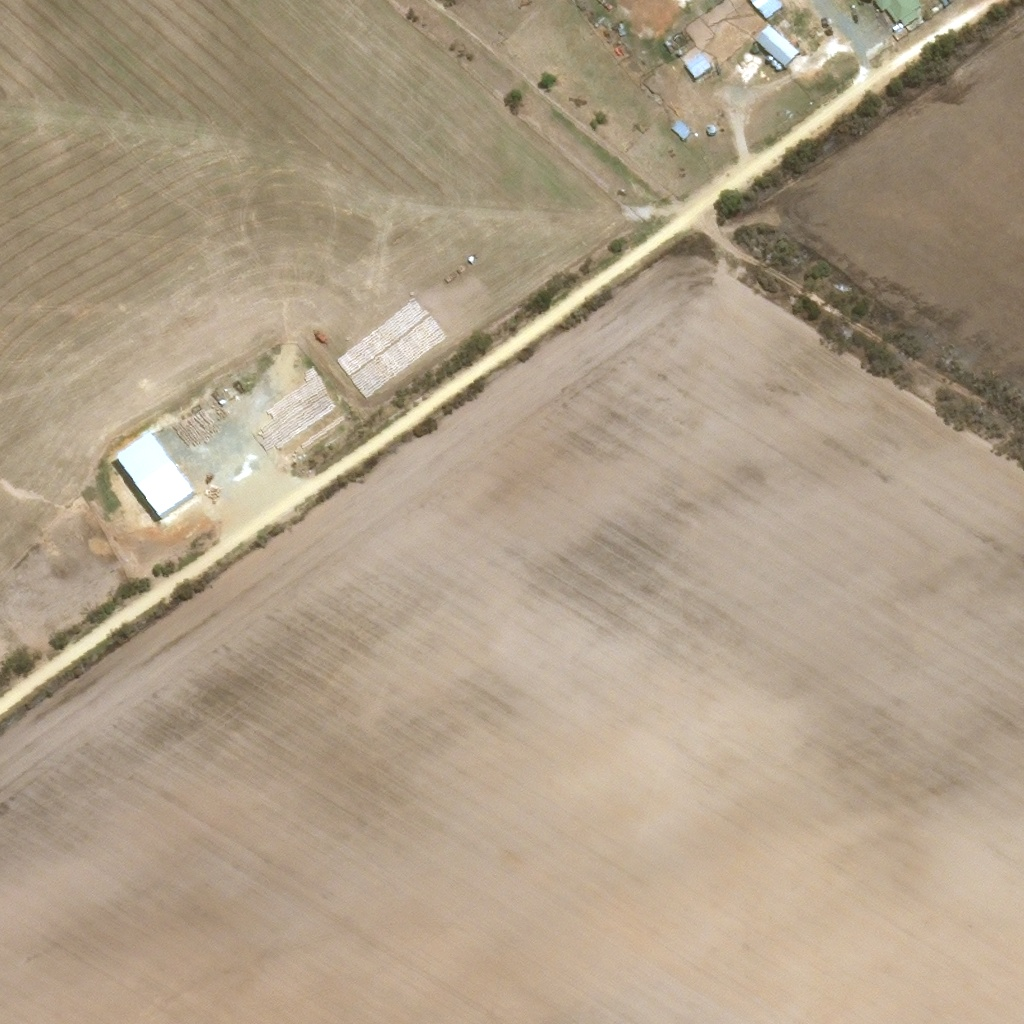0 no-damage: (117, 425, 196, 520), (754, 24, 798, 66), (874, 0, 921, 26), (683, 52, 711, 82), (668, 120, 690, 141), (765, 54, 780, 71)
